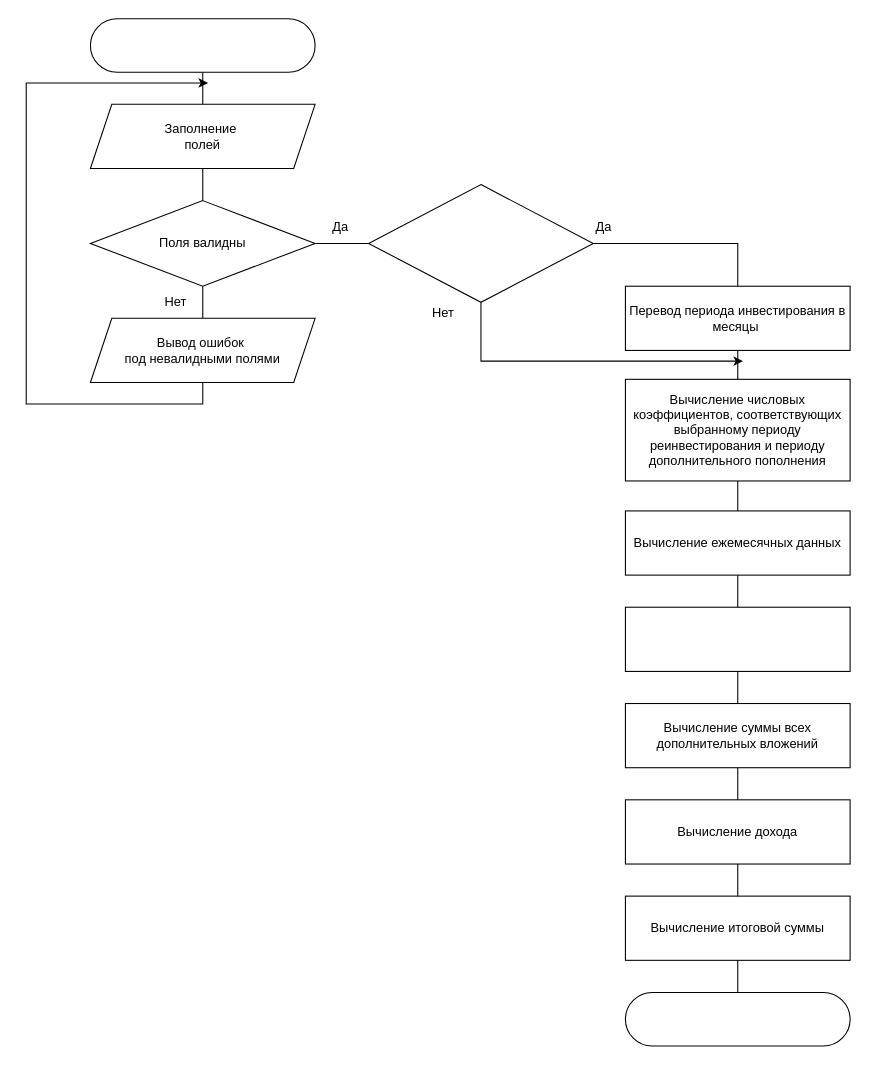
Some shapes in this 869 by 1065 pixel diagram are drawn without their labels. Each missing label, with the centre of its shape:
Вычисление годовых данных на основе ежемесячных: (x=737, y=638)
Конец: (x=737, y=1018)
Начало: (x=202, y=45)
Период инвестирования задан в годах: (x=480, y=243)
